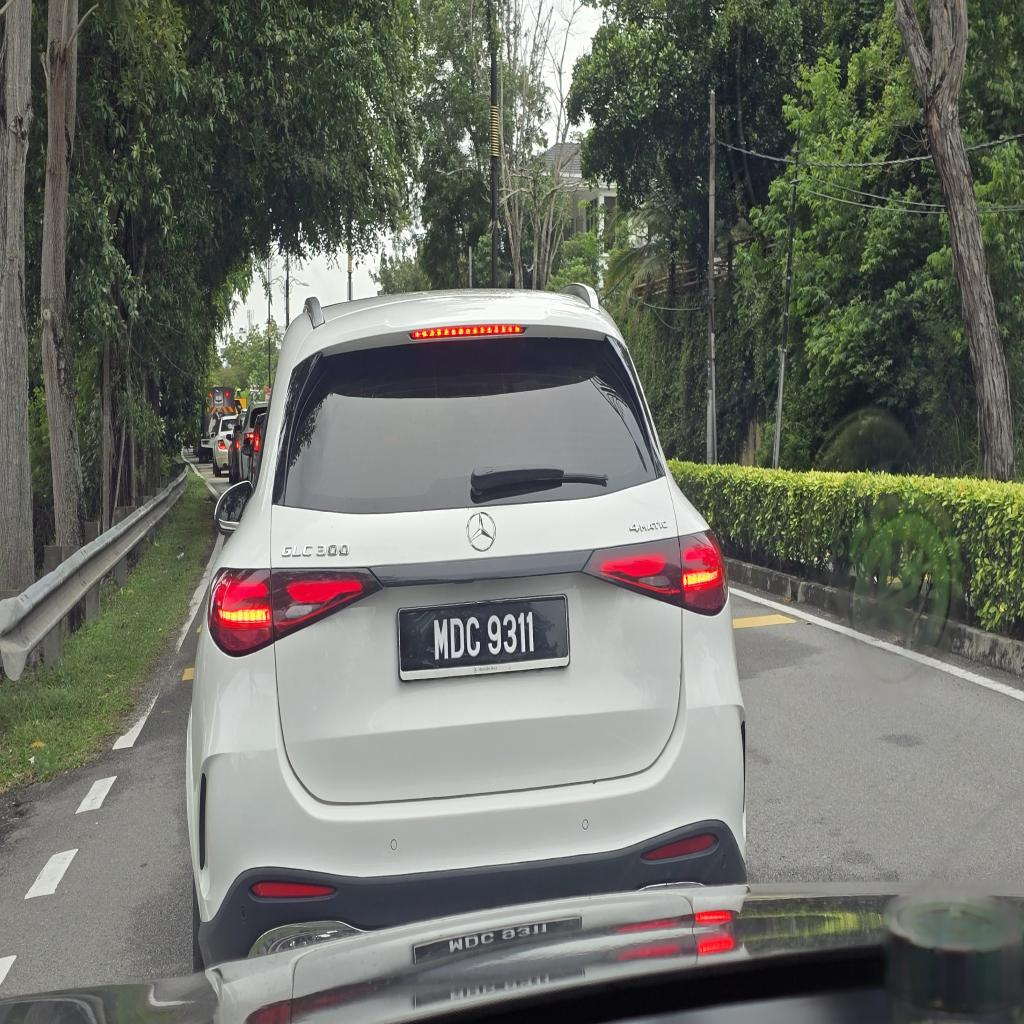car: (187, 286, 745, 964)
car plate: (400, 596, 569, 680)
